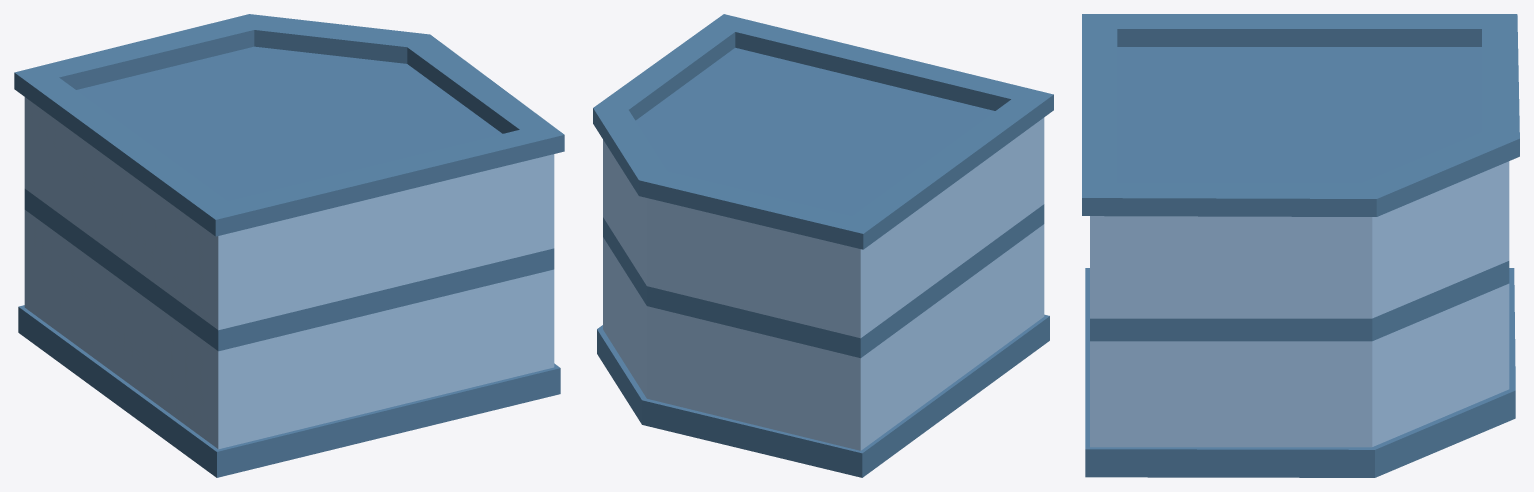
Rendered from Map-Shop-Lv2-B.fbx.
The picture shows the model from 3 angles, left to right: view 1: azimuth 30°, elevation 25°; view 2: azimuth 150°, elevation 25°; view 3: azimuth 270°, elevation 25°; orthographic projection. The views are drawn at different scales.
Parts seen in each view (by area): view 1: Map-Shop-Lv2-B; view 2: Map-Shop-Lv2-B; view 3: Map-Shop-Lv2-B.
Part boxes in pixels (x1,y1,x2,y2): Map-Shop-Lv2-B: (14, 14, 564, 477); Map-Shop-Lv2-B: (593, 14, 1053, 477); Map-Shop-Lv2-B: (1082, 14, 1519, 477).
Size of the model in its own units: 2.09 by 1.48 by 2.09.
